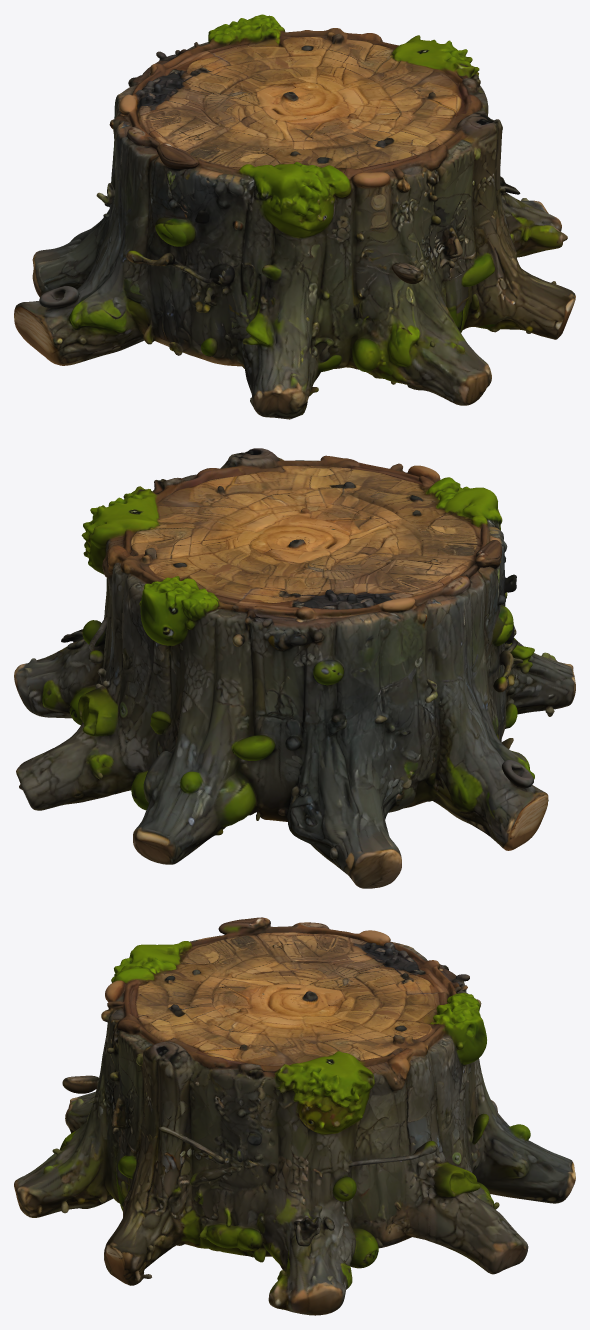
Rendered from nature-stump.glb.
3 renders of one model, top to bottom at view 1: azimuth 30°, elevation 25°; view 2: azimuth 150°, elevation 25°; view 3: azimuth 270°, elevation 25°, orthographic. The views are drawn at different scales.
Visible parts, largest first — view 1: tripo_node_fe99f829-98b0-480c-baa9-c2fce91a7adc; view 2: tripo_node_fe99f829-98b0-480c-baa9-c2fce91a7adc; view 3: tripo_node_fe99f829-98b0-480c-baa9-c2fce91a7adc.
Boxes of the visible parts, x1=… form: tripo_node_fe99f829-98b0-480c-baa9-c2fce91a7adc: x1=14, y1=14, x2=575, y2=419; tripo_node_fe99f829-98b0-480c-baa9-c2fce91a7adc: x1=14, y1=448, x2=575, y2=888; tripo_node_fe99f829-98b0-480c-baa9-c2fce91a7adc: x1=14, y1=917, x2=575, y2=1315.
Size of the model in its own units: 1.79 by 0.8 by 1.79.
Materials: 1 (1 with a texture image).
